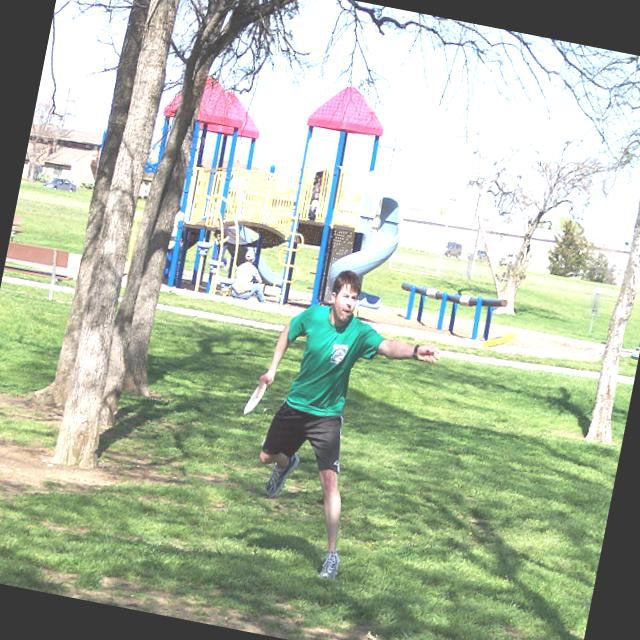Vehicle: (42, 174, 77, 194), (498, 250, 520, 270), (443, 240, 464, 260)
